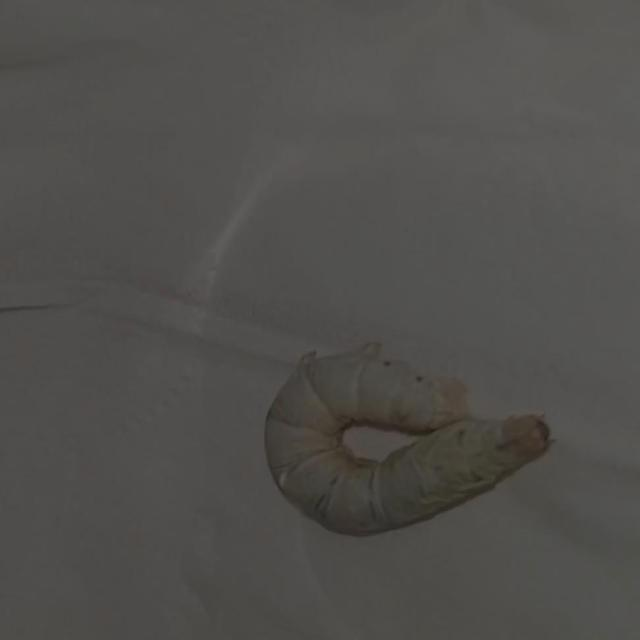Healthy: (244, 298, 560, 558)
